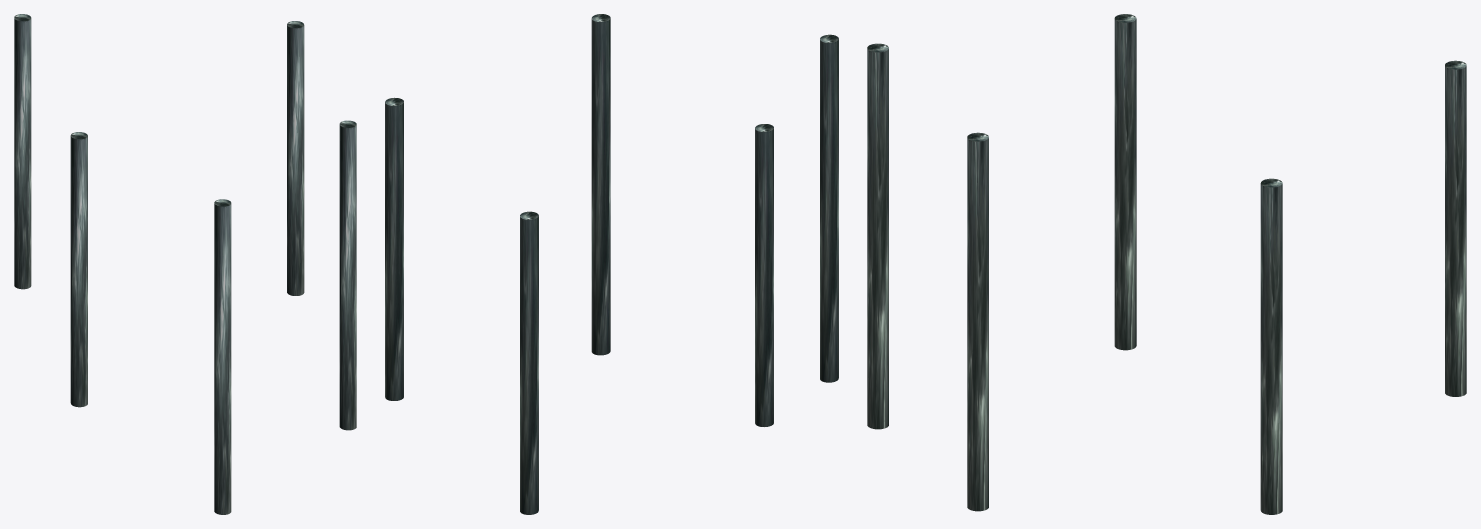
Rendered from stage.obj.
3 renders of one model, left to right at view 1: azimuth 30°, elevation 25°; view 2: azimuth 150°, elevation 25°; view 3: azimuth 270°, elevation 25°, orthographic. The views are drawn at different scales.
Visible parts, largest first — view 1: 円柱, 円柱.003, 円柱.002, 円柱.001_円柱.006, 円柱.005; view 2: 円柱.003, 円柱, 円柱.002, 円柱.005, 円柱.001_円柱.006; view 3: 円柱, 円柱.003, 円柱.001_円柱.006, 円柱.005, 円柱.002.
Part boxes in pixels (x1,y1,x2,y2): 円柱: (214, 199, 231, 514); 円柱.003: (339, 120, 356, 430); 円柱.002: (14, 14, 31, 289); 円柱.001_円柱.006: (70, 132, 87, 407); 円柱.005: (287, 21, 304, 295); 円柱.003: (591, 14, 610, 355); 円柱: (820, 34, 838, 382); 円柱.002: (520, 211, 538, 514); 円柱.005: (385, 97, 403, 400); 円柱.001_円柱.006: (755, 124, 773, 426); 円柱: (867, 43, 888, 429); 円柱.003: (967, 132, 988, 511); 円柱.001_円柱.006: (1114, 14, 1136, 350); 円柱.005: (1260, 178, 1282, 514); 円柱.002: (1445, 60, 1466, 396).
Bounding box in the file's own units: 120 × 124 × 175.
1 material, 1 textured.
